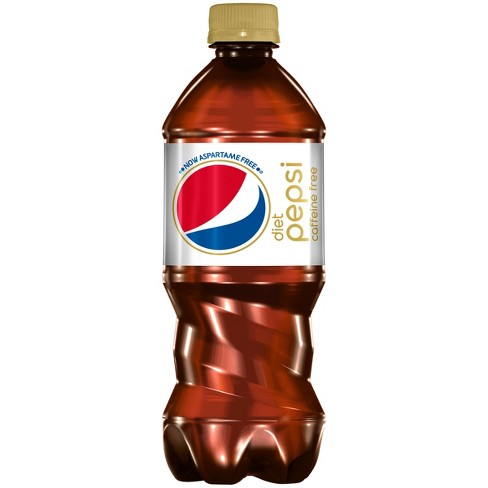pepsi: (172, 162, 266, 250)
